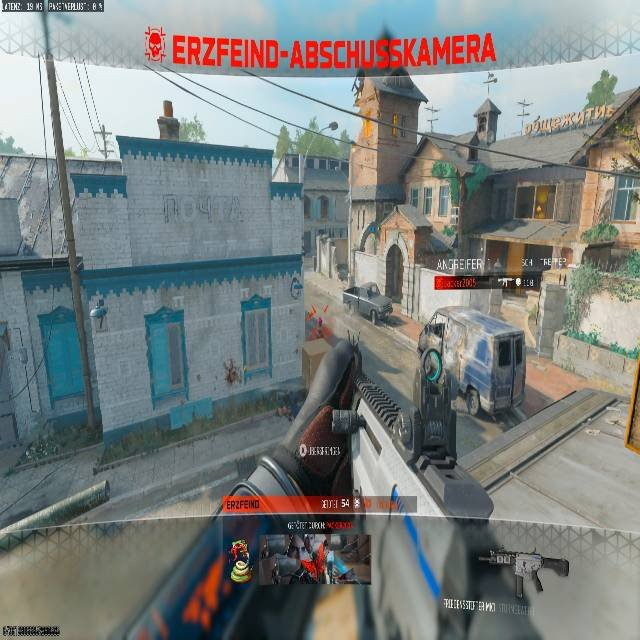player: (305, 306, 321, 339)
